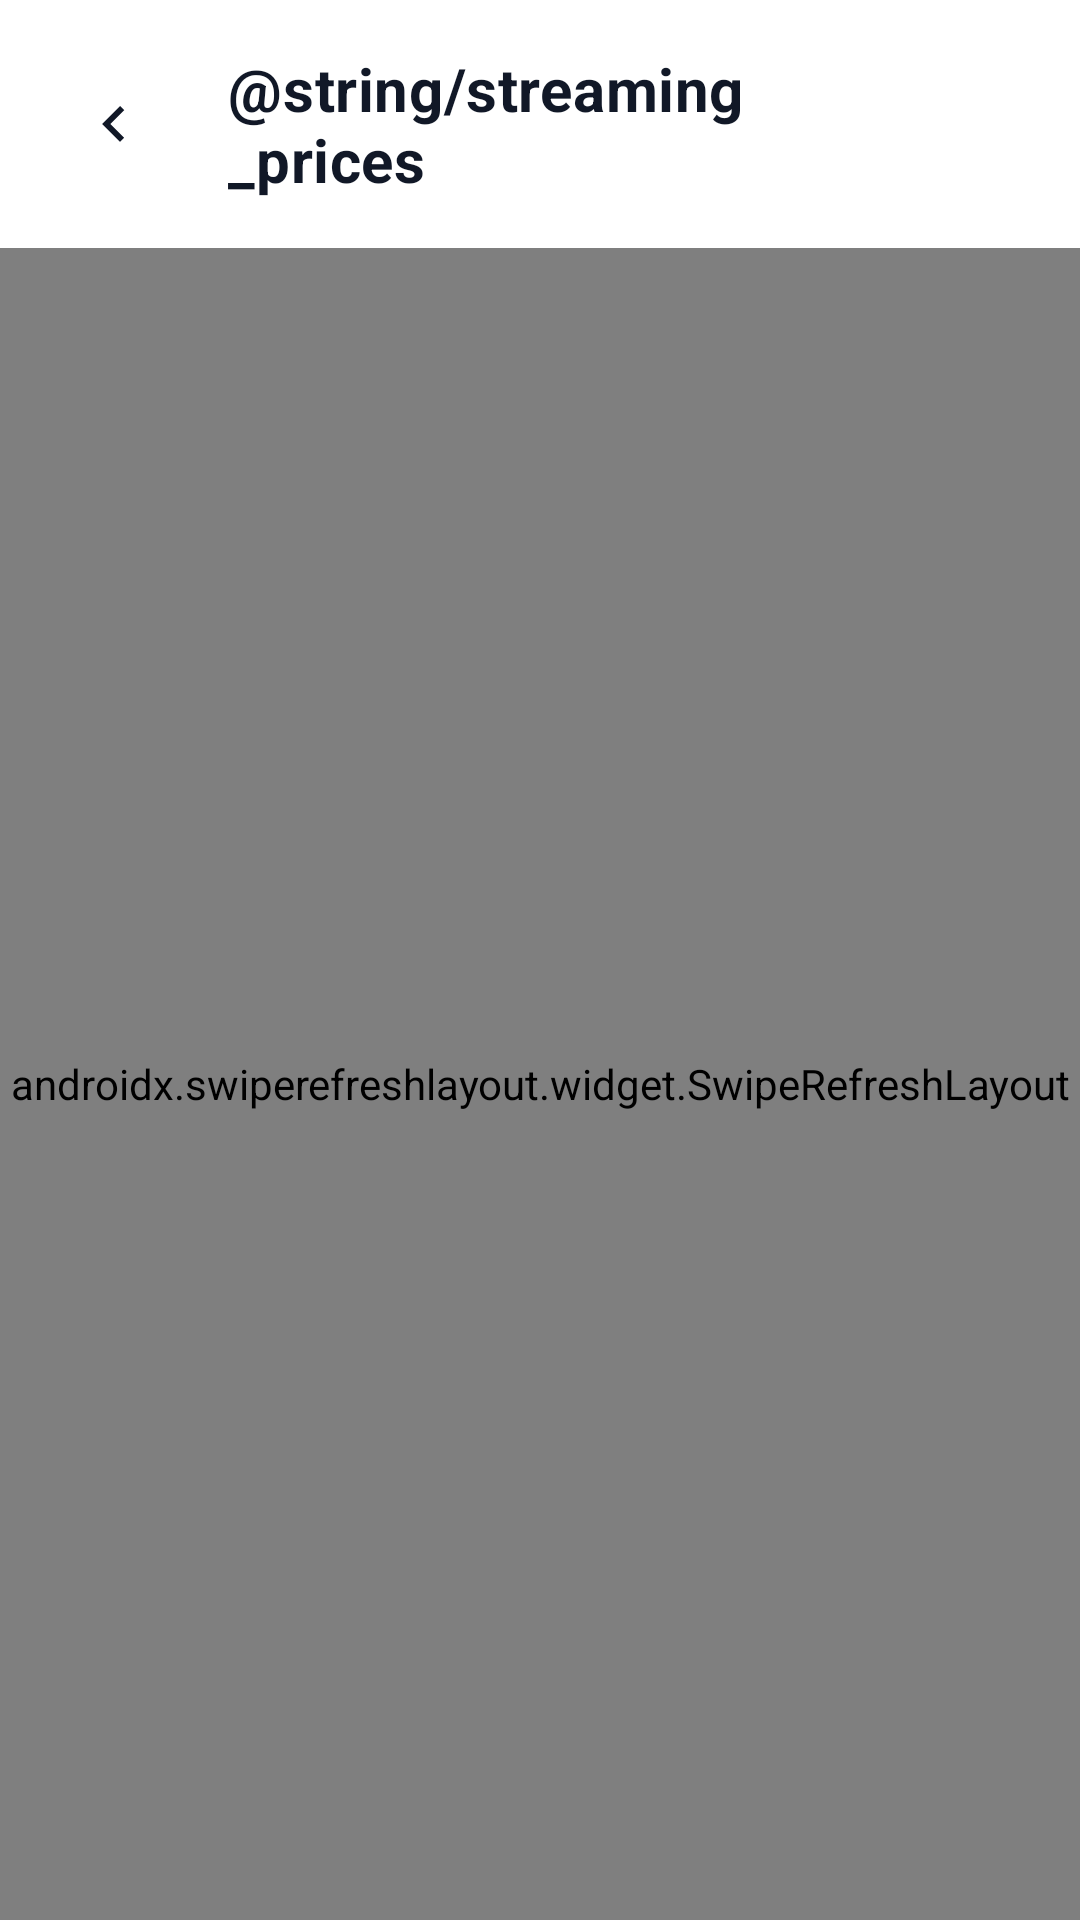

Screen size 1080px×1920px. Icon name, then its box in pixels as (x1, y1, x2, y2):
Back: (102, 106, 124, 142)
